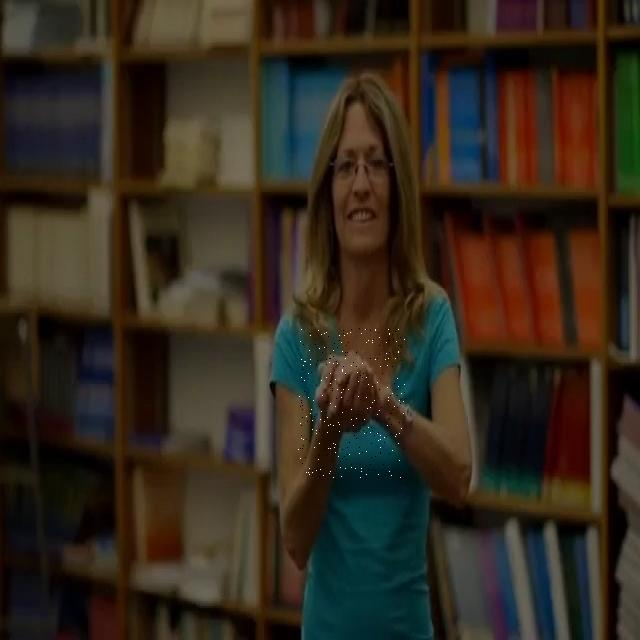burger: (298, 328, 405, 478)
